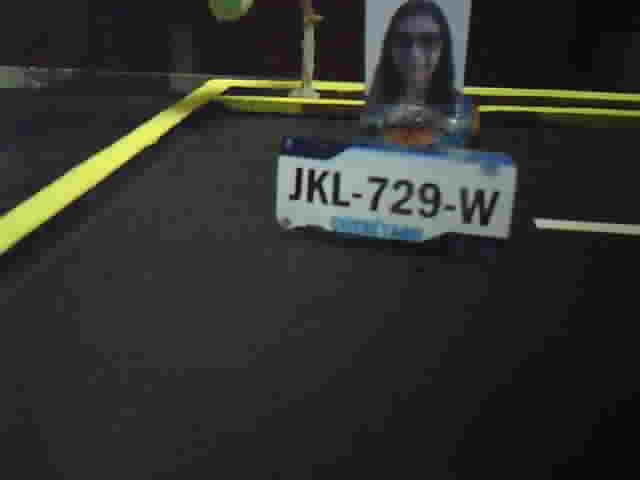PLACA: (274, 133, 522, 260)
ROSTRO: (368, 1, 463, 119)
